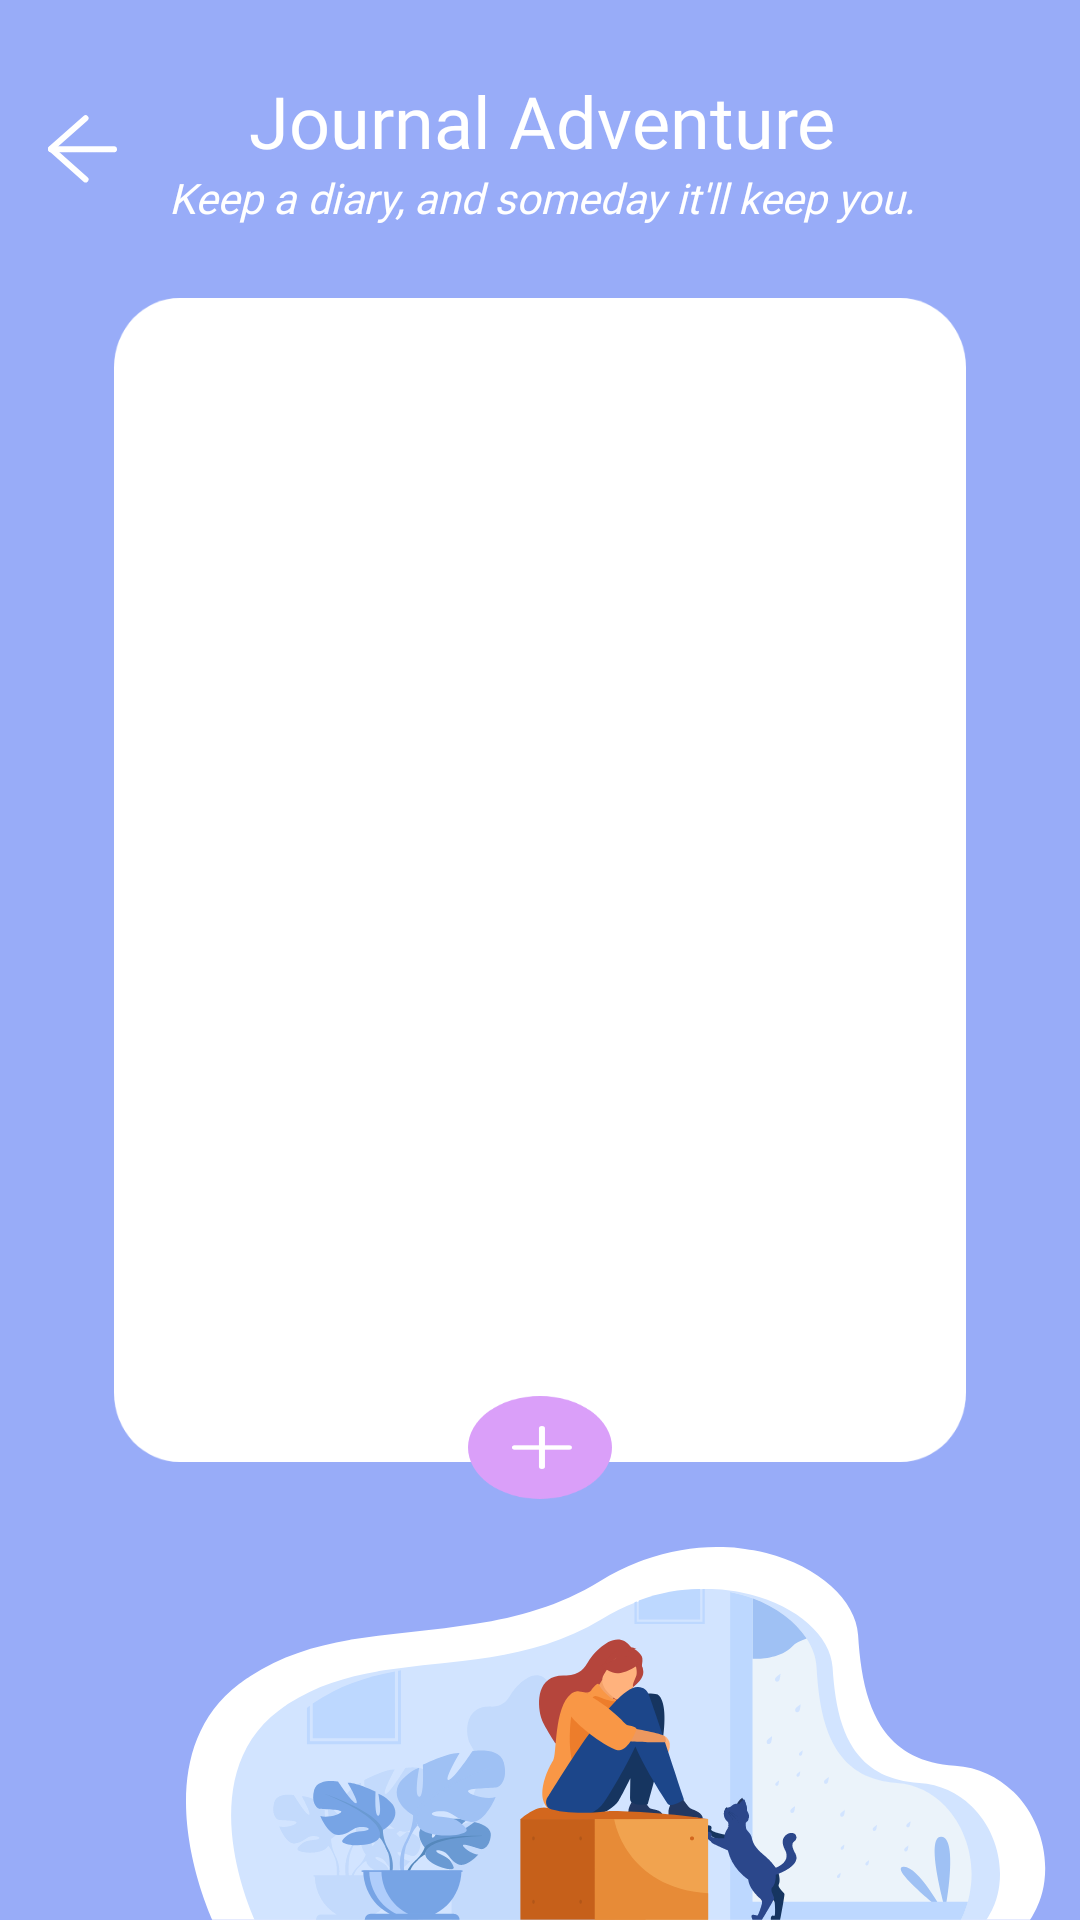

Icons on this 1080px×1920px Android screen, each with the point to tap as point (x, y):
add journal: point (540, 1447)
